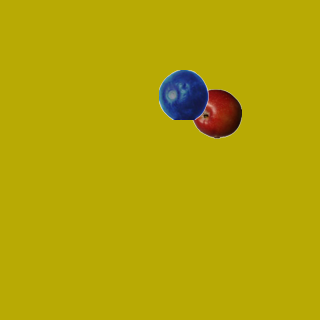Apple Braeburn: (191, 88, 241, 138)
Huckleberry: (158, 69, 208, 119)
